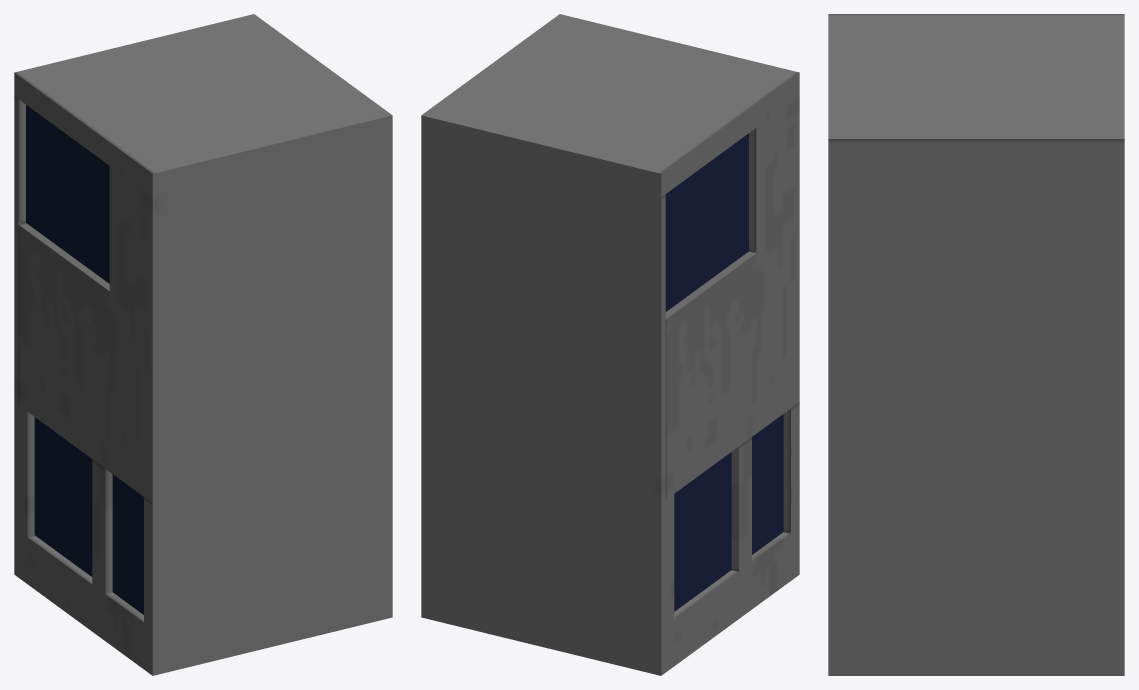
File: PARTER_CZ_SR1.dae
The picture shows the model from 3 angles, left to right: view 1: azimuth 30°, elevation 25°; view 2: azimuth 150°, elevation 25°; view 3: azimuth 270°, elevation 25°; orthographic projection. The views are drawn at different scales.
Parts seen in each view (by area): view 1: Content; view 2: Content; view 3: Content.
Part boxes in pixels (x1,y1,x2,y2): Content: [14, 14, 392, 675]; Content: [421, 14, 799, 675]; Content: [828, 14, 1124, 675].
Bounding box in the file's own units: 32 × 64 × 32.
Materials: 1 (1 with a texture image).
